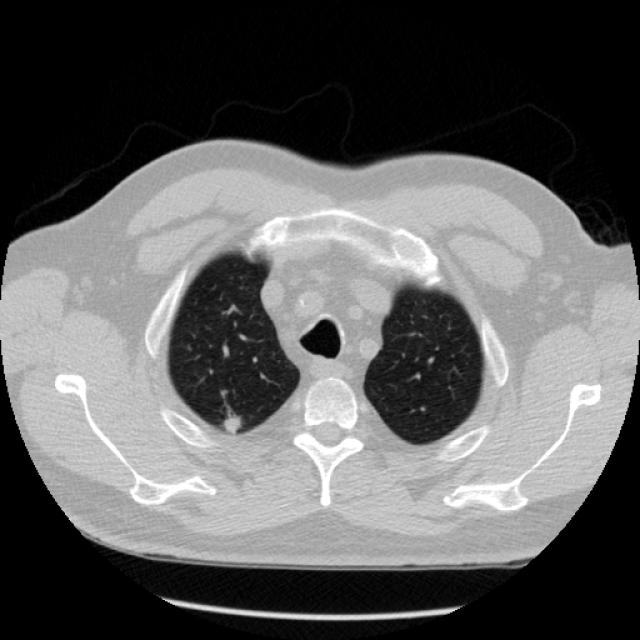nodule: (211, 402, 249, 440)
